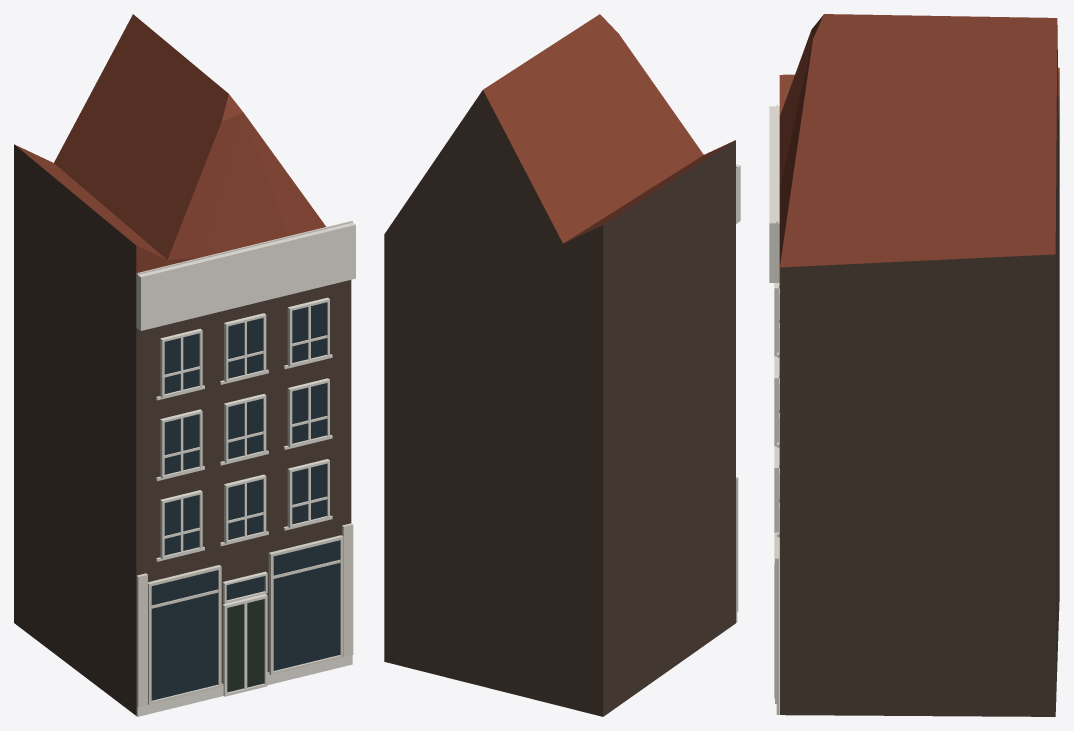
3 views of the same model, side by side, from view 1: azimuth 30°, elevation 25°; view 2: azimuth 150°, elevation 25°; view 3: azimuth 270°, elevation 25° (orthographic). The views are drawn at different scales.
Parts seen in each view (by area): view 1: spec-0363100012182850; view 2: spec-0363100012182850; view 3: spec-0363100012182850.
Part boxes in pixels (box(x1,y1,x2,y2)): spec-0363100012182850: box(14, 14, 355, 716); spec-0363100012182850: box(384, 14, 740, 716); spec-0363100012182850: box(769, 14, 1059, 716).
Size of the model in its own units: 6.79 by 17.26 by 7.02.
